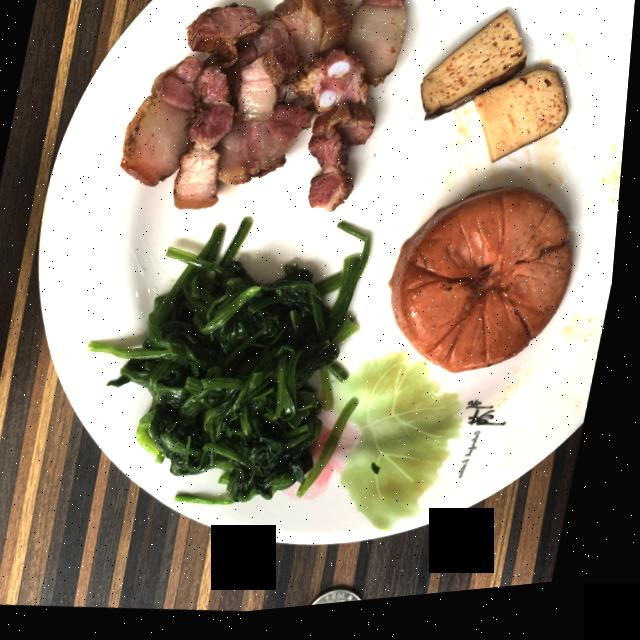Spam: (395, 196, 577, 381)
coin: (321, 596, 373, 613)
firm tofu: (422, 20, 571, 171)
grilled pork: (124, 0, 407, 217)
mustard greens: (94, 221, 375, 509)
